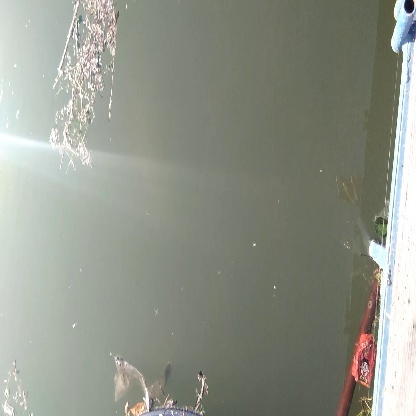milk-box: (347, 328, 378, 394)
